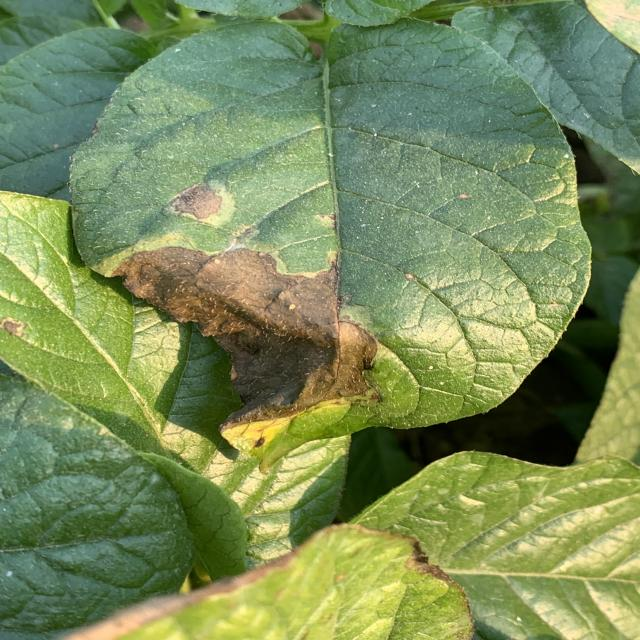lateblight: (113, 246, 377, 454), (170, 184, 222, 219), (0, 316, 28, 338)
